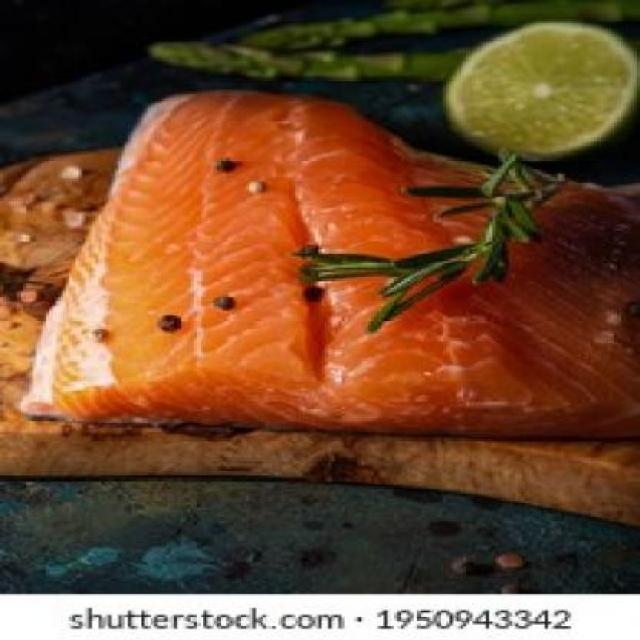salmon: (32, 66, 640, 436)
